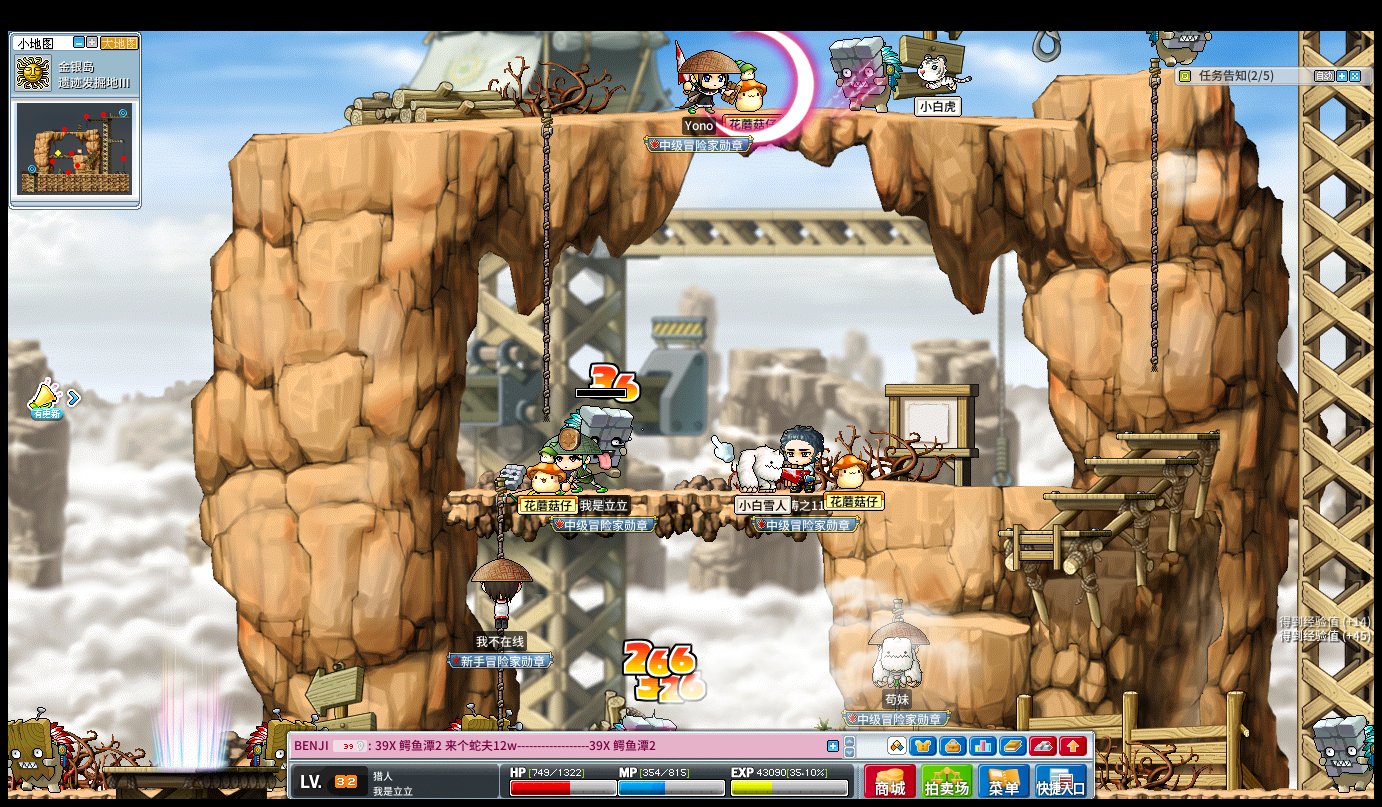floor: (224, 104, 1074, 138), (447, 488, 826, 498), (922, 613, 1029, 634), (901, 482, 1076, 492), (1052, 67, 1166, 81), (1114, 429, 1221, 441), (1077, 456, 1194, 464), (1041, 492, 1154, 500), (995, 528, 1108, 536)
monster: (2, 711, 75, 792), (828, 34, 900, 111), (1312, 715, 1375, 792), (577, 405, 635, 447)
rope: (1146, 54, 1160, 377), (540, 107, 551, 425), (541, 108, 551, 357), (492, 482, 505, 559)
